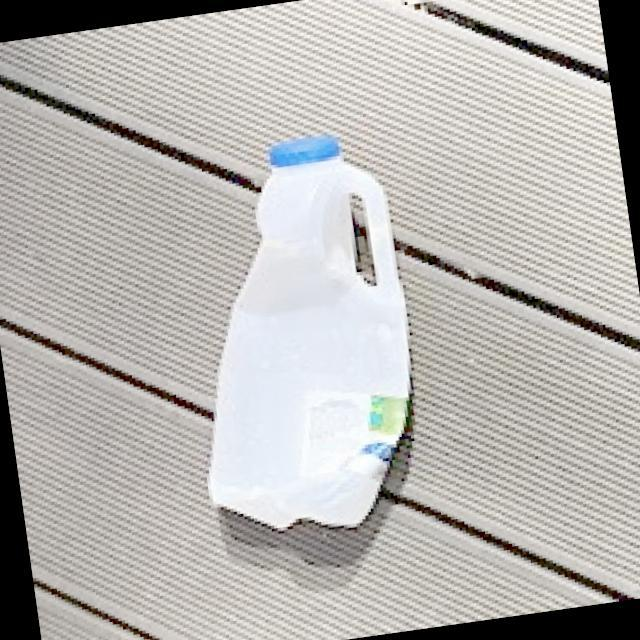HDPE Plastic: (205, 132, 416, 536)
